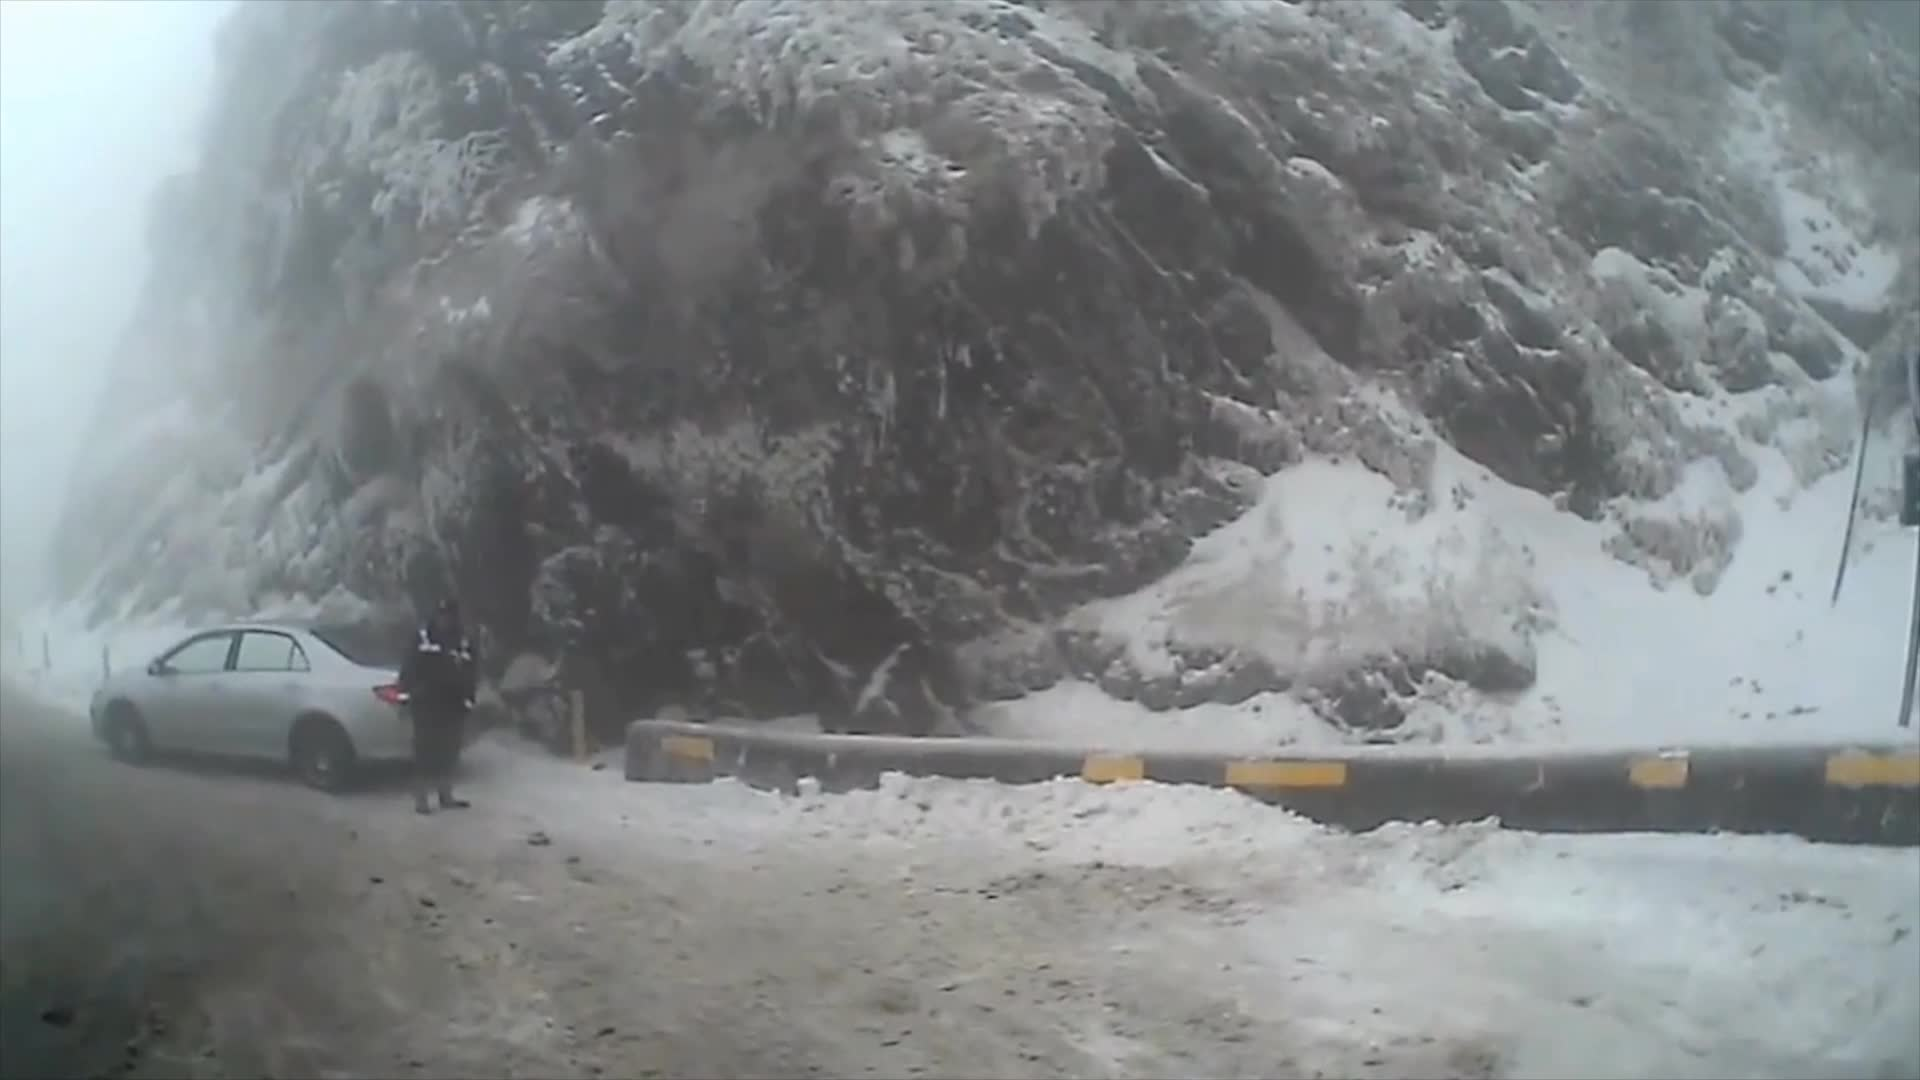pedestrian: (399, 597, 483, 815)
vehicle: (90, 619, 481, 800)
